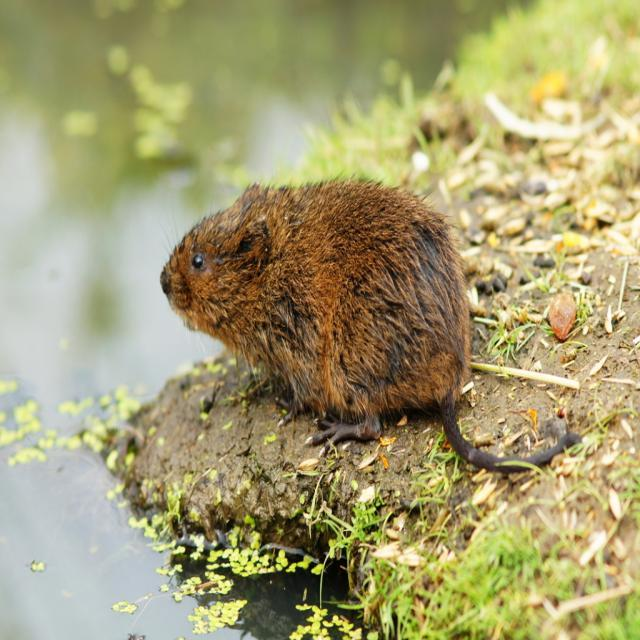rat: (158, 181, 578, 474)
